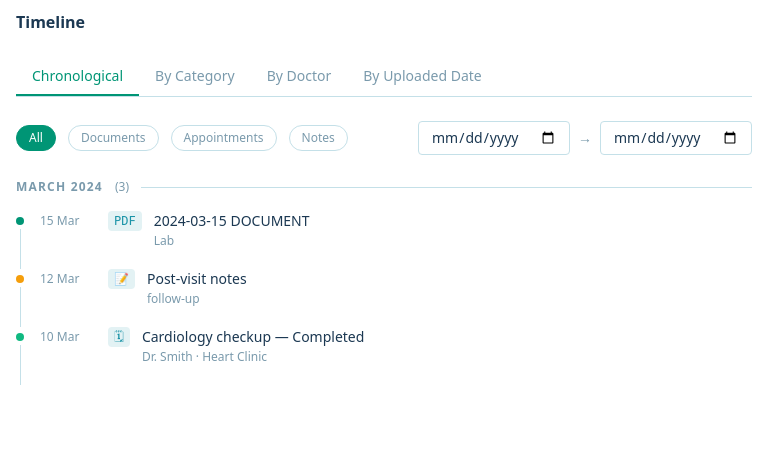
Test: TimelinePage › switches to By Category view and loads categories
Expected: the text "2024-03-15 DOCUMENT" is shown, [154,211,310,230]
Click the button "By Category".
click(195, 77)  # box [139,58,251,96]
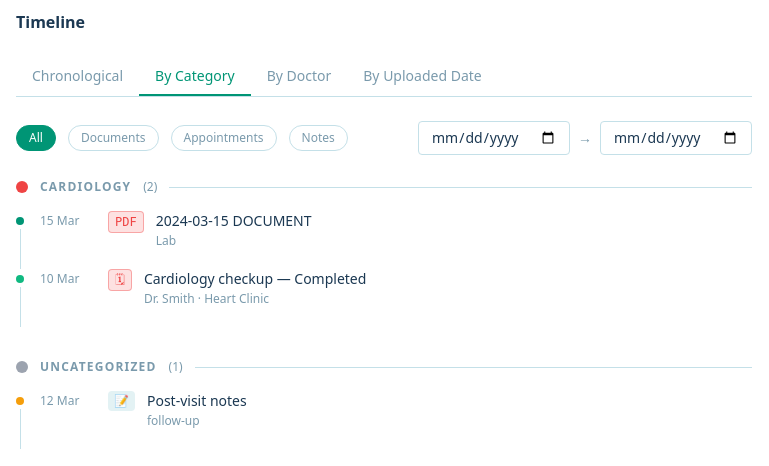
Now the text "Cardiology" is shown, box [40,179,131,195]
